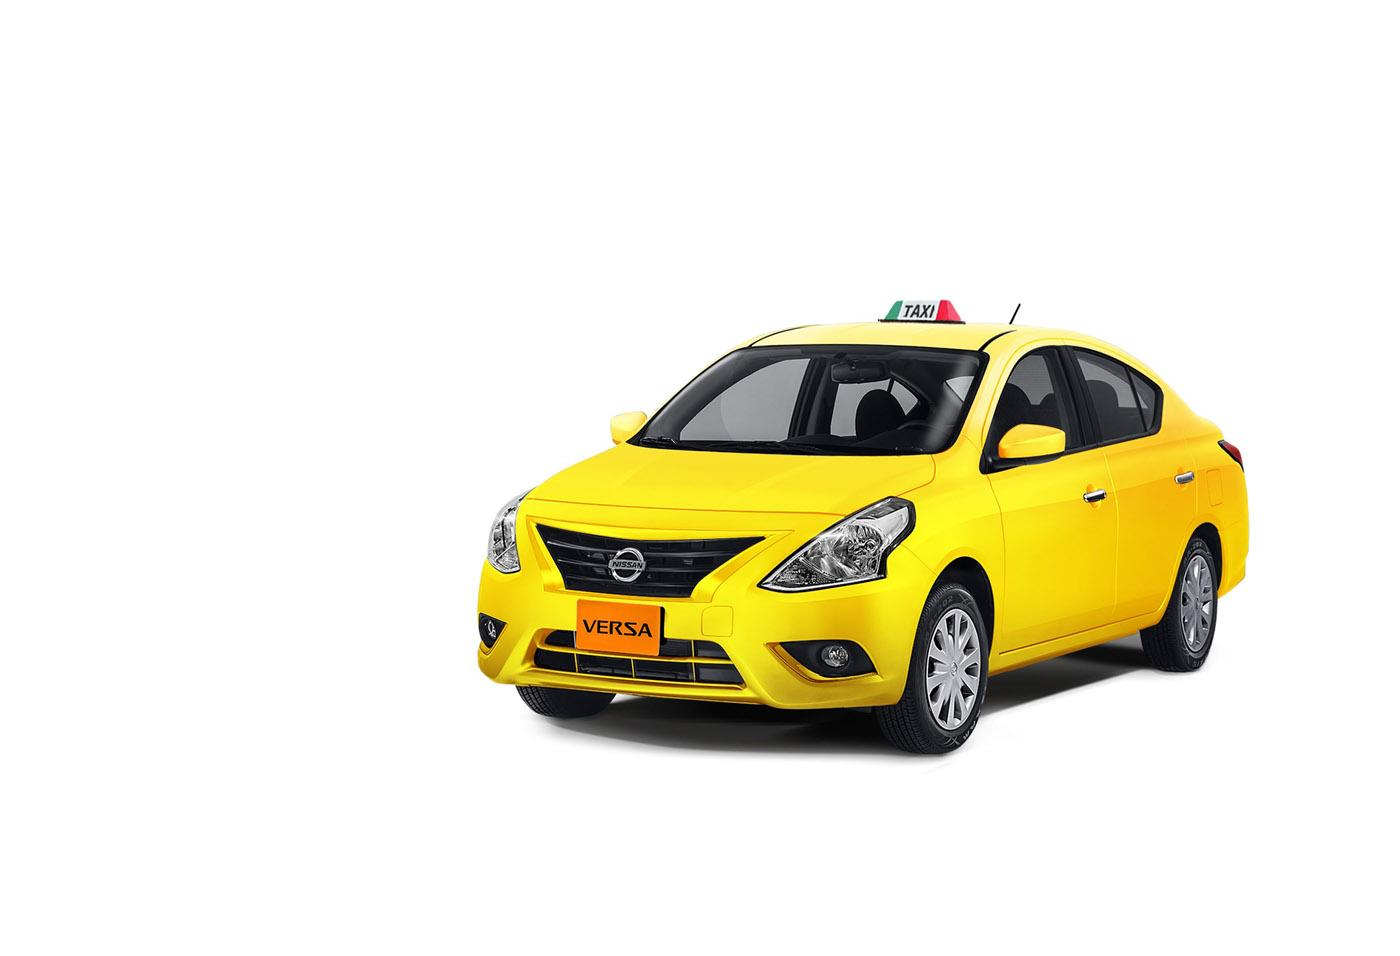taxi: (454, 244, 1339, 784)
